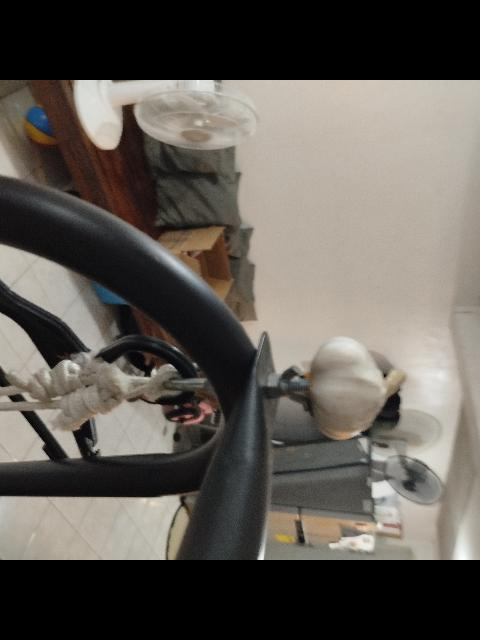garlic: (304, 306, 422, 462)
